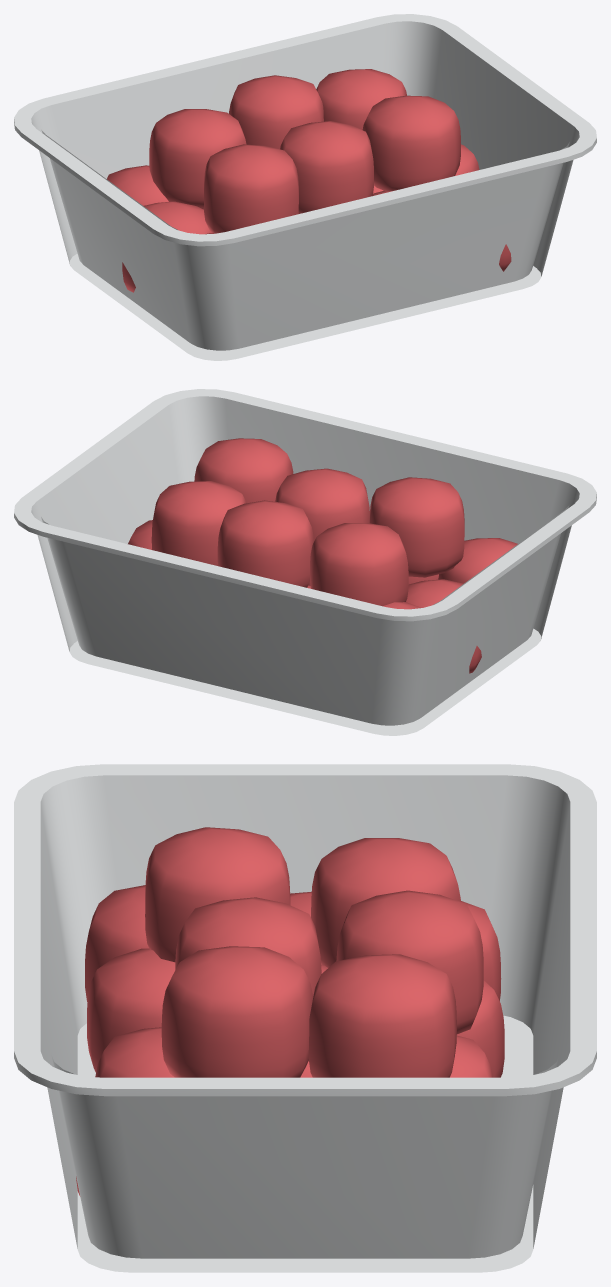
The model's file is fresh-produce-and-groceries-cherry-tomatoes-punnet-af61fe70__24374.glb.
The picture shows the model from 3 angles, top to bottom: view 1: azimuth 30°, elevation 25°; view 2: azimuth 150°, elevation 25°; view 3: azimuth 270°, elevation 25°; orthographic projection. The views are drawn at different scales.
Visible parts, largest first — view 1: cherry-tomatoes-punnet; view 2: cherry-tomatoes-punnet; view 3: cherry-tomatoes-punnet.
Part boxes in pixels (x1,y1,x2,y2): cherry-tomatoes-punnet: (14, 14, 596, 360); cherry-tomatoes-punnet: (14, 389, 596, 735); cherry-tomatoes-punnet: (14, 764, 596, 1272).
Size of the model in its own units: 0.145 by 0.0512 by 0.11.
